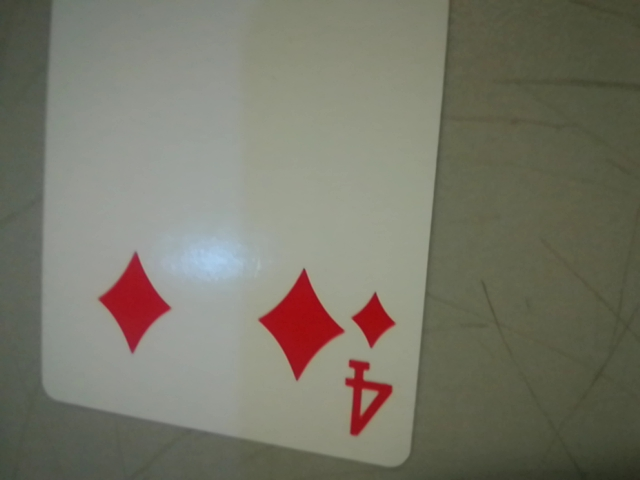fk 4: (332, 279, 410, 451)
